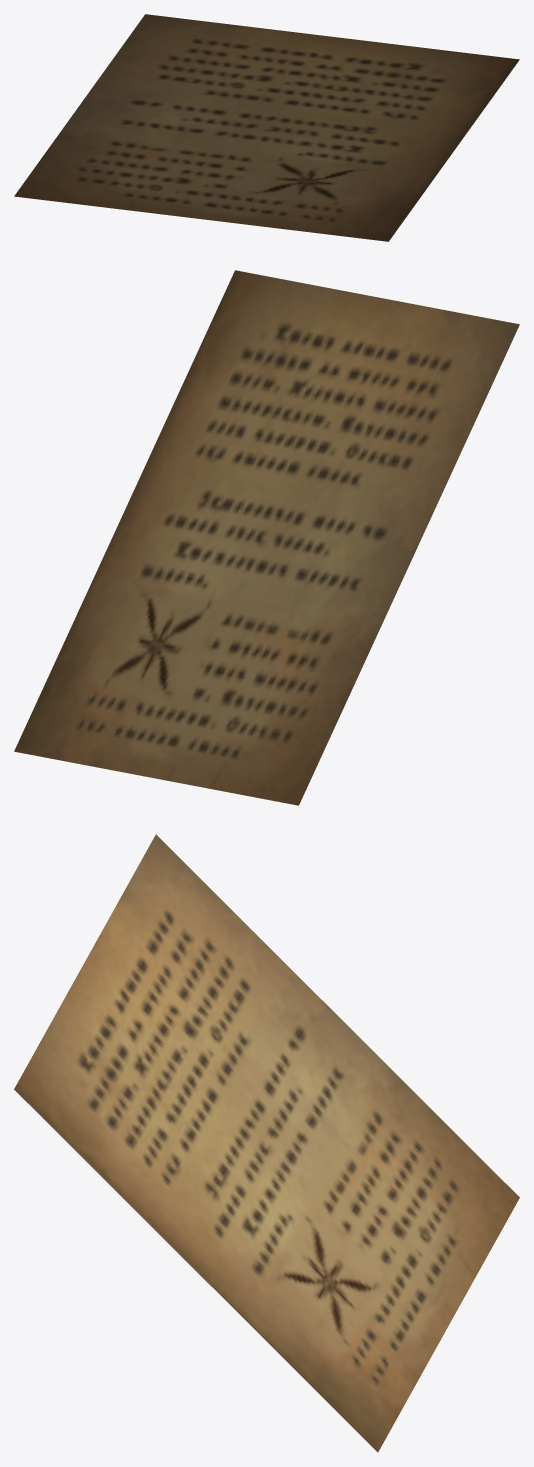
The model's file is Paper_04.fbx.
The picture shows the model from 3 angles, top to bottom: view 1: azimuth 30°, elevation 25°; view 2: azimuth 150°, elevation 25°; view 3: azimuth 270°, elevation 25°; orthographic projection. The views are drawn at different scales.
Parts seen in each view (by area): view 1: Paper_04; view 2: Paper_04; view 3: Paper_04.
Boxes of the visible parts, bbox=[...] form: Paper_04: bbox=[14, 14, 519, 241]; Paper_04: bbox=[14, 270, 519, 805]; Paper_04: bbox=[14, 834, 519, 1452].
Bounding box in the file's own units: 2.41 × 2.58 × 2.75.
